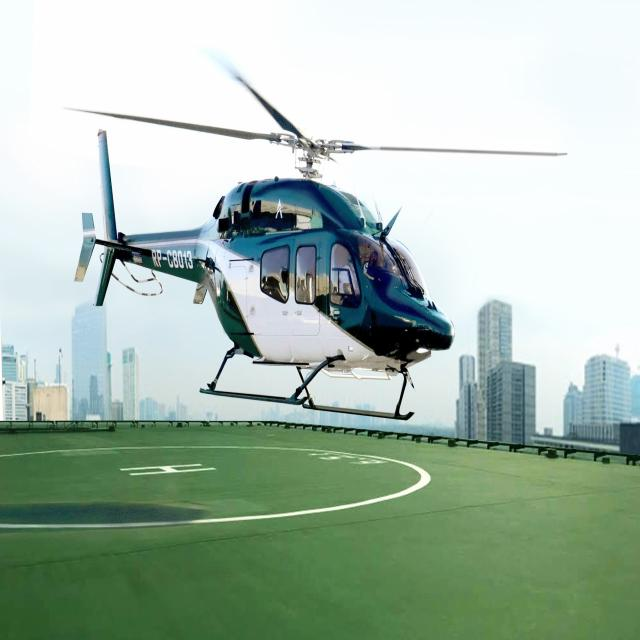helipad: (0, 440, 432, 530)
